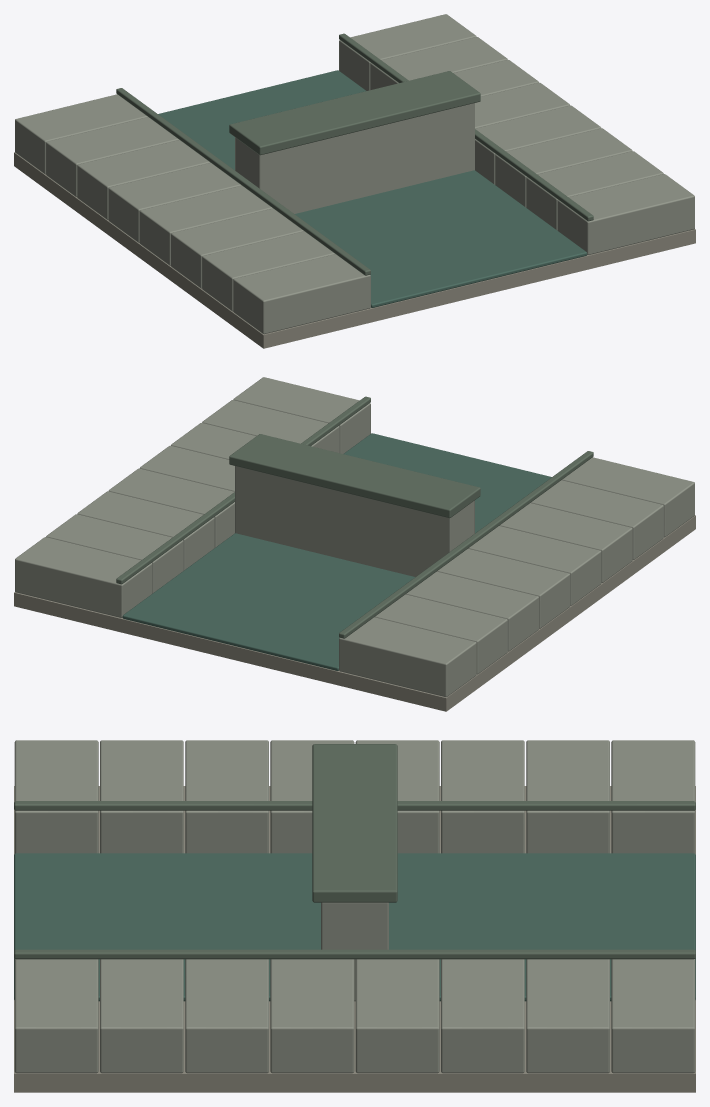
The model's file is undercity-sewers-and-thieves-den-overflow-weir-6596f39e__25015.glb.
3 views of the same model, one above another, from view 1: azimuth 30°, elevation 25°; view 2: azimuth 150°, elevation 25°; view 3: azimuth 270°, elevation 25° (orthographic). The views are drawn at different scales.
Visible parts, largest first — view 1: overflow-weir; view 2: overflow-weir; view 3: overflow-weir.
Boxes of the visible parts, <box> form: overflow-weir: <box>14,14,695,348</box>; overflow-weir: <box>14,377,695,711</box>; overflow-weir: <box>14,740,695,1092</box>.
Bounding box in the file's own units: 4 × 0.8502 × 4.
